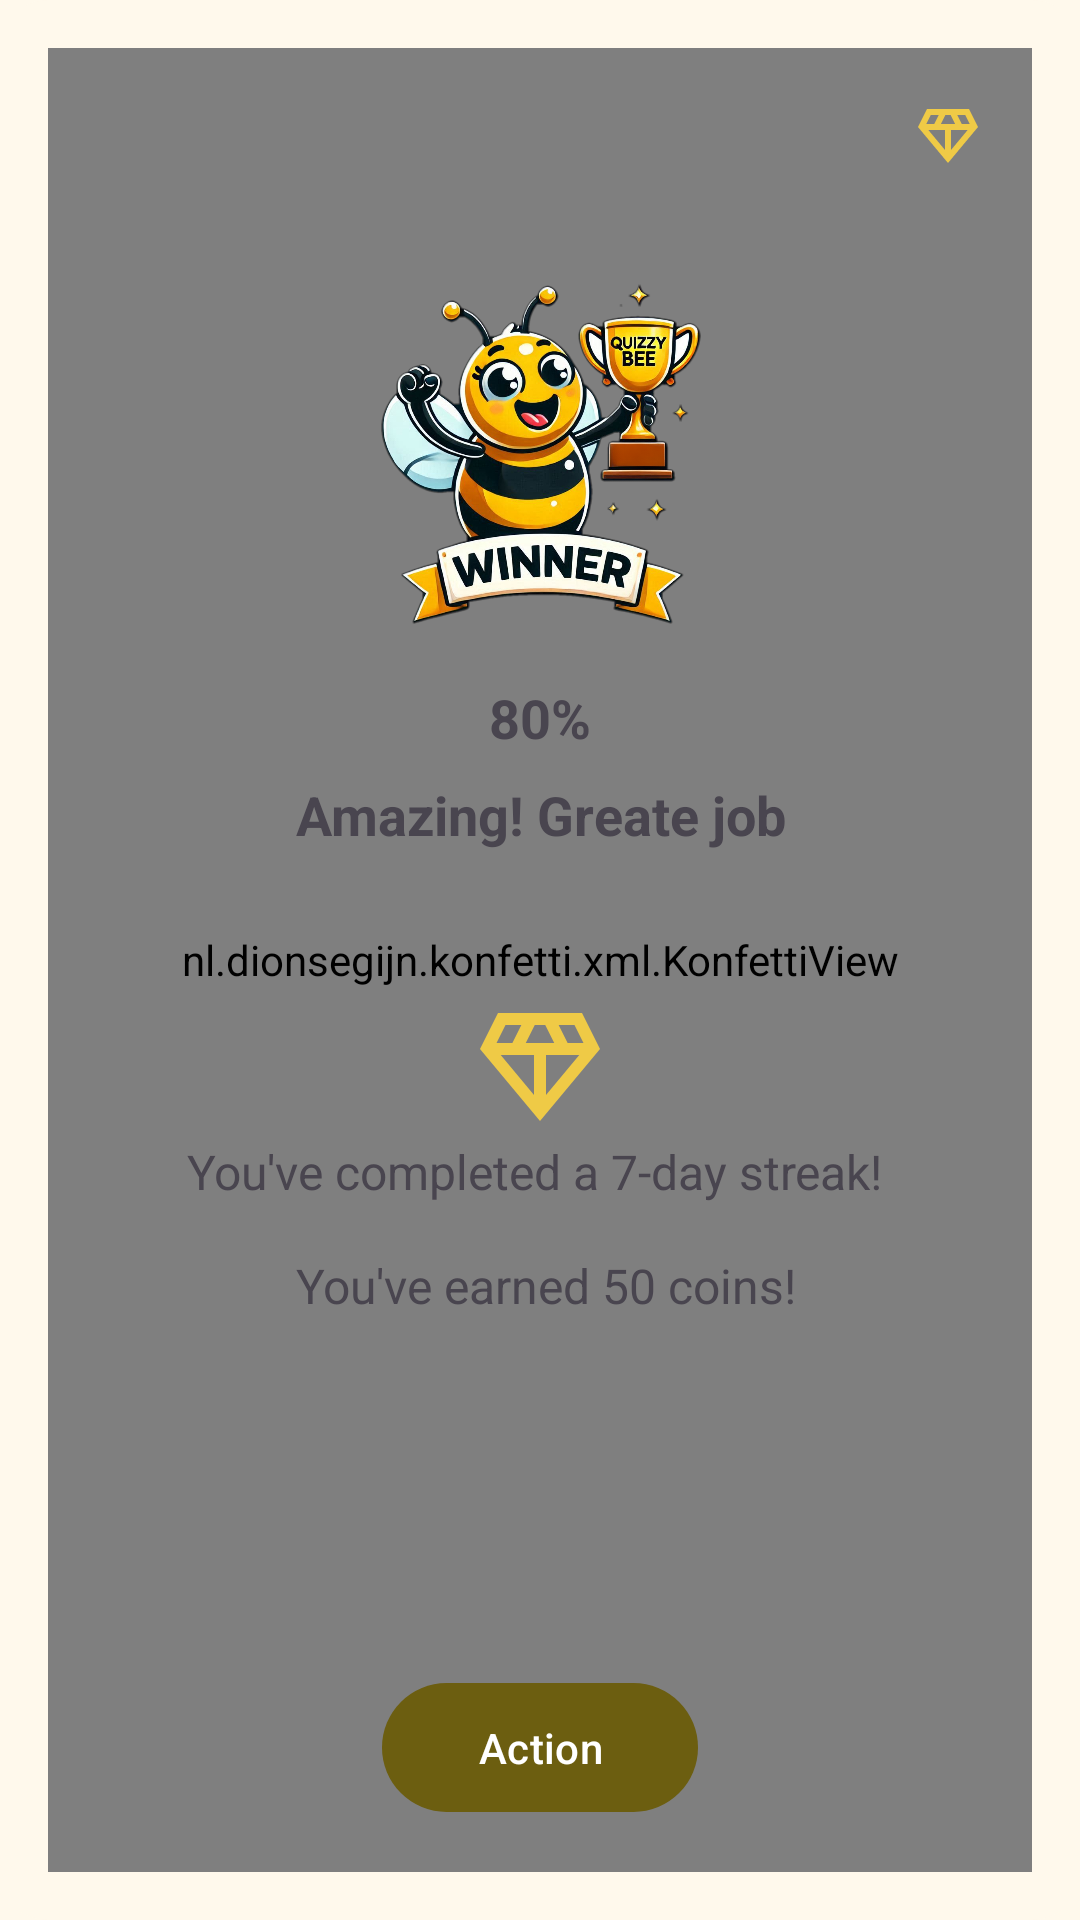

Icon click points for this 1080 × 1920 phone screenshot, format (x,y):
Result Image: (541,454)
